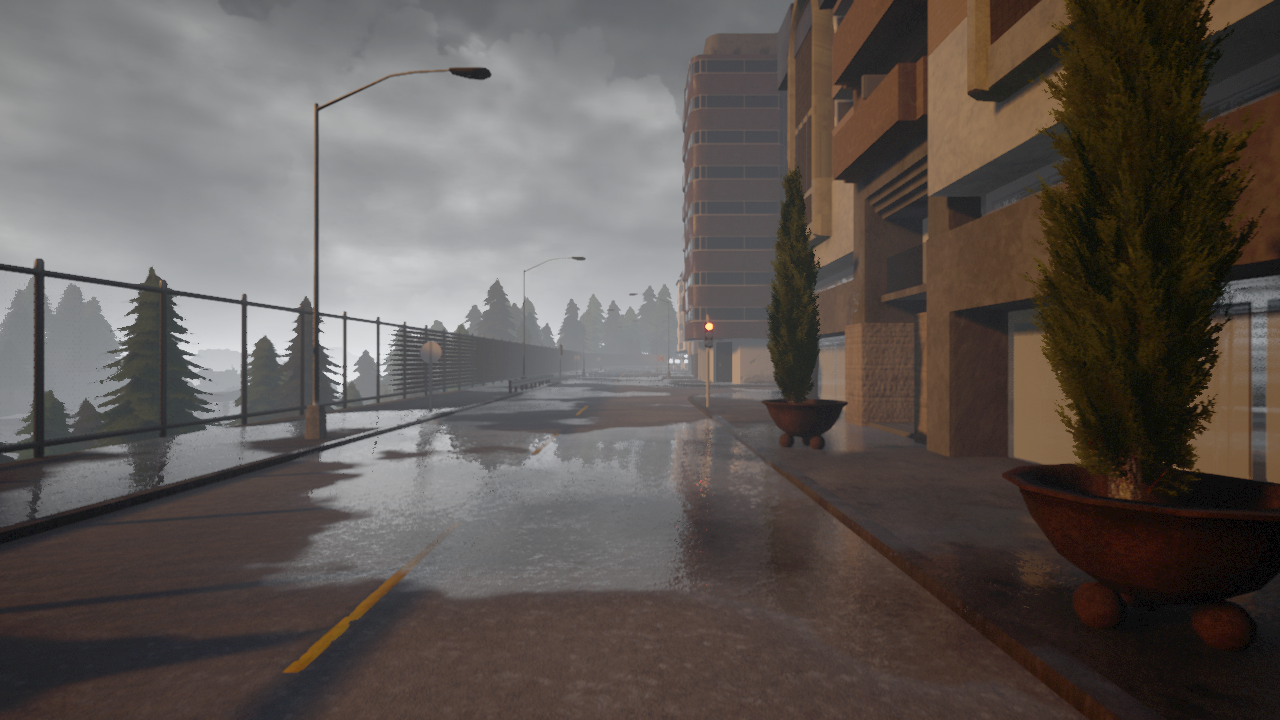red: (703, 322, 714, 350)
